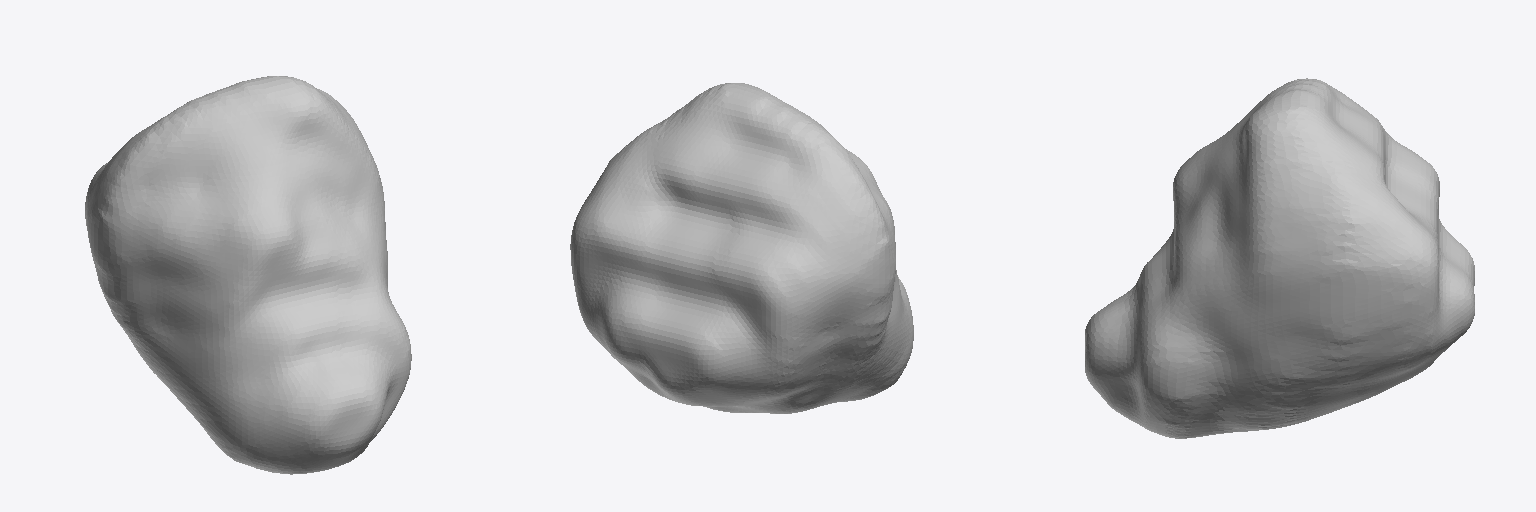
Rendered from bladder.obj.
3 renders of one model, left to right at view 1: azimuth 30°, elevation 25°; view 2: azimuth 150°, elevation 25°; view 3: azimuth 270°, elevation 25°, orthographic.
Parts seen in each view (by area): view 1: grp1; view 2: grp1; view 3: grp1.
Boxes of the visible parts, box(x1,y1,x2,y2) form: grp1: box(85, 76, 411, 474); grp1: box(570, 83, 913, 413); grp1: box(1085, 78, 1474, 438).
Bounding box in the file's own units: 59.18 × 67.94 × 72.75.